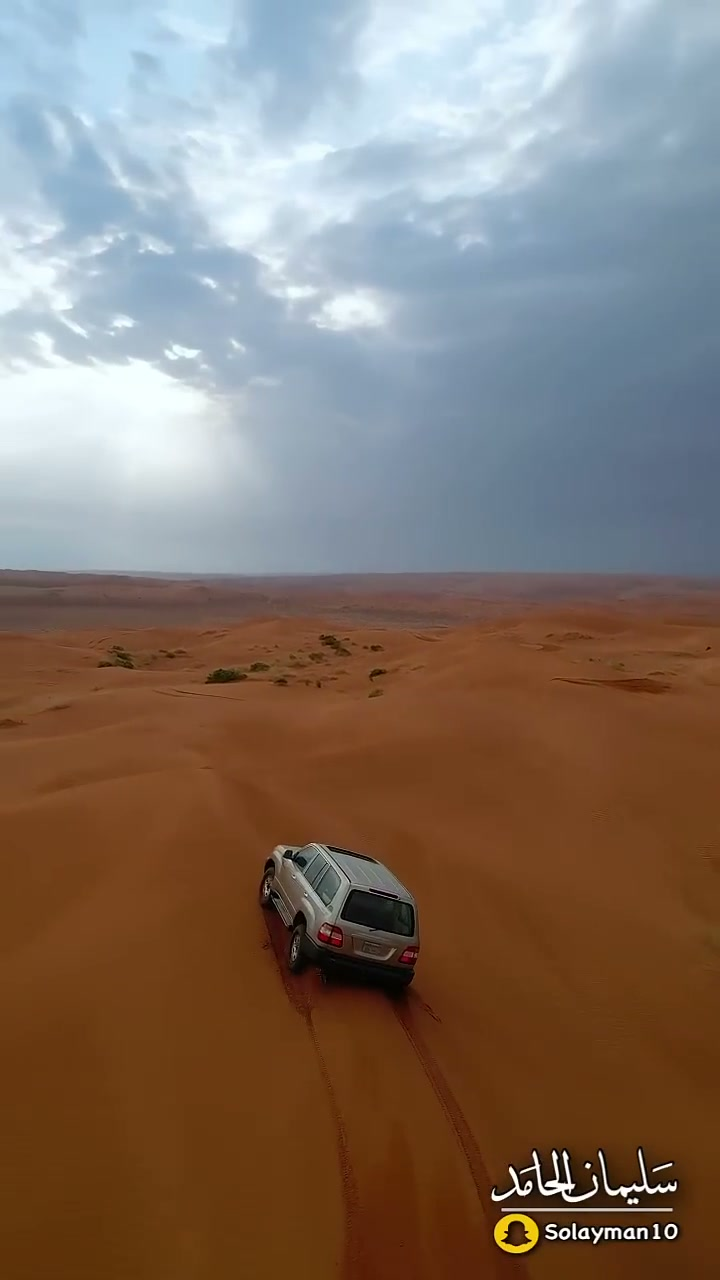vehicle_track: (265, 912, 367, 1279), (392, 1000, 491, 1214)
